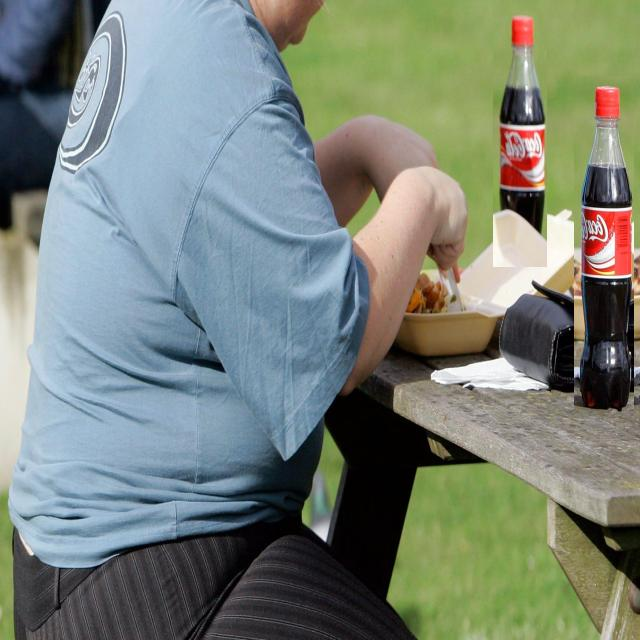coca-cola: (574, 76, 634, 416), (493, 12, 548, 267)
